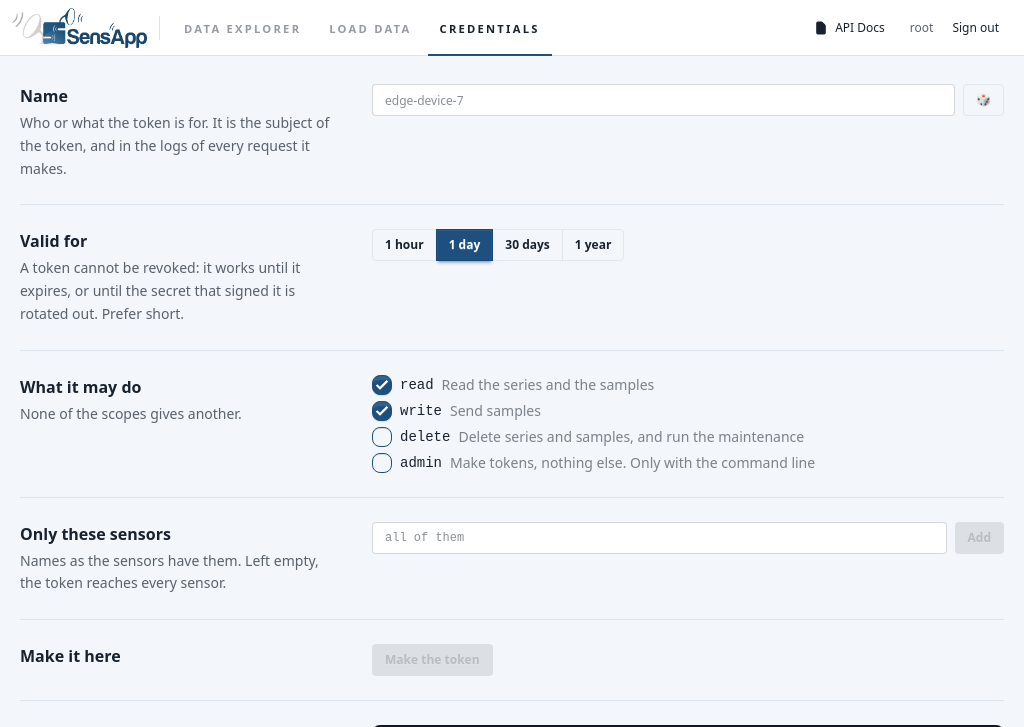
Test: CredentialsPage › shows what the server refused in the form, to fix it
This screenshot has width=1024, height=727.
Type "edge-7" into the field named "Name" at (664, 100), box [372, 84, 955, 116]
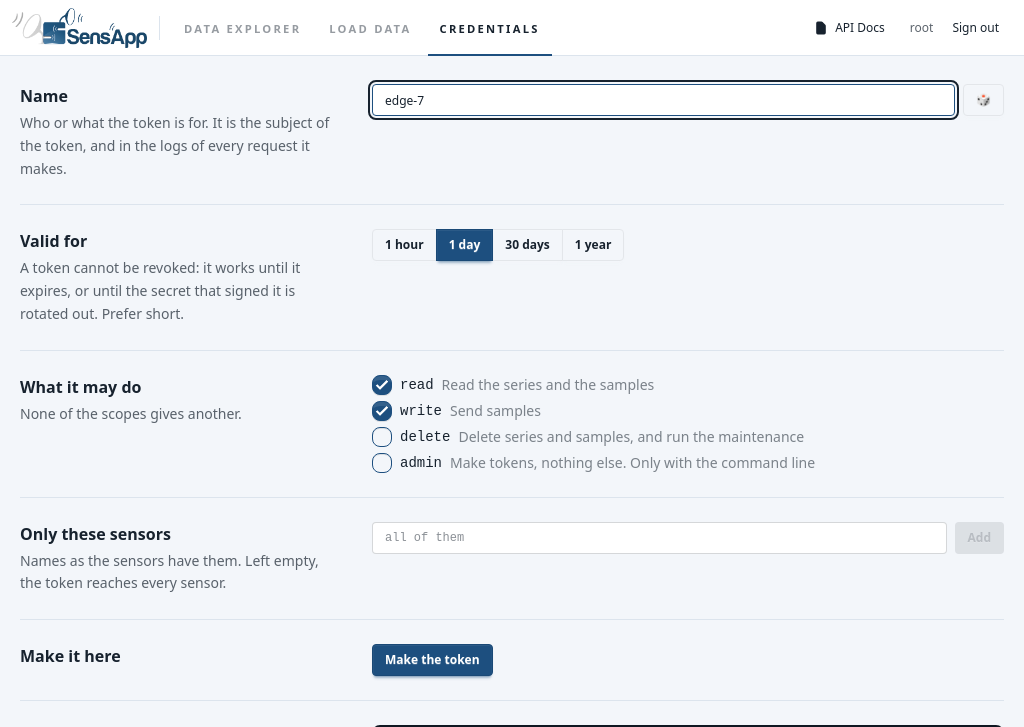
Click the button "Make the token" at (432, 660), box [372, 644, 493, 676]
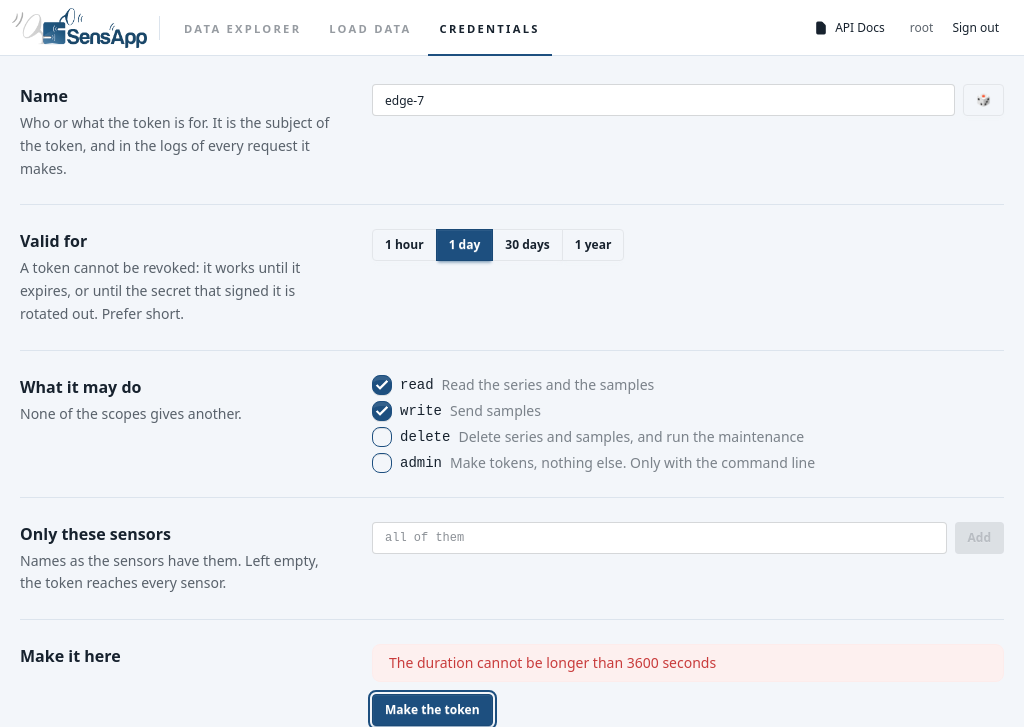
Now the message reads "The duration cannot be longer than 3600 seconds", box [389, 653, 716, 672]
